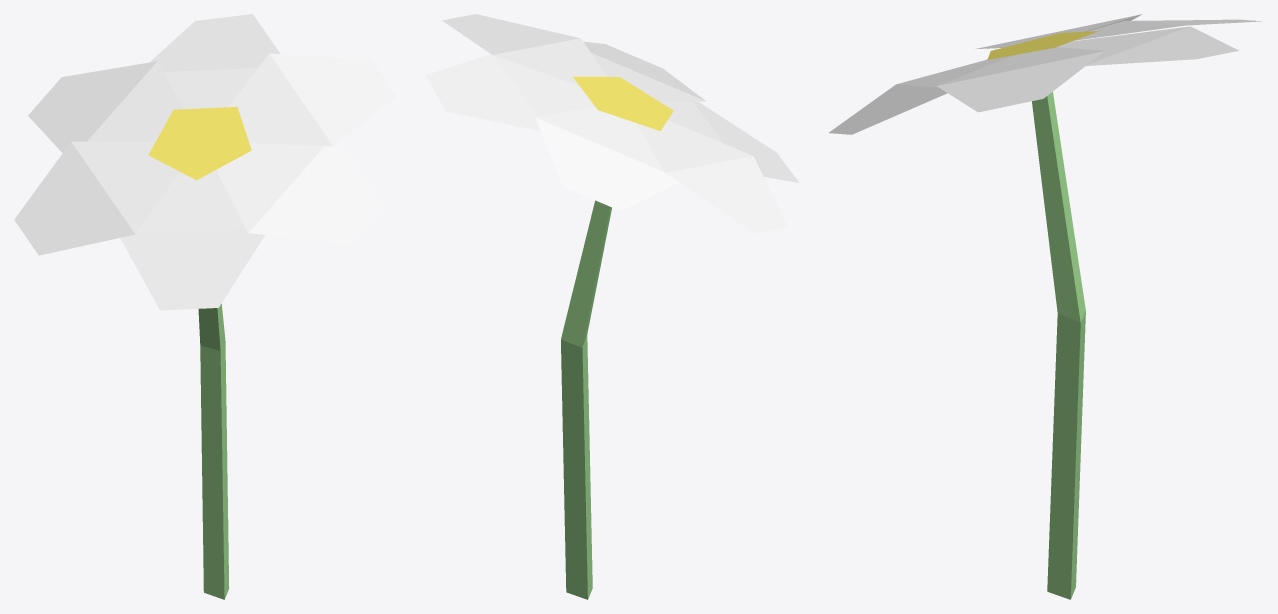
The model's file is Flower_e_OneS_04.fbx.
The picture shows the model from 3 angles, left to right: view 1: azimuth 30°, elevation 25°; view 2: azimuth 150°, elevation 25°; view 3: azimuth 270°, elevation 25°; orthographic projection. The views are drawn at different scales.
Visible parts, largest first — view 1: Flower_e_OneS_04; view 2: Flower_e_OneS_04; view 3: Flower_e_OneS_04.
Boxes of the visible parts, x1=… form: Flower_e_OneS_04: x1=14, y1=14, x2=396, y2=599; Flower_e_OneS_04: x1=425, y1=14, x2=799, y2=599; Flower_e_OneS_04: x1=828, y1=14, x2=1261, y2=599.
Bounding box in the file's own units: 19.7 × 29.2 × 19.73.
